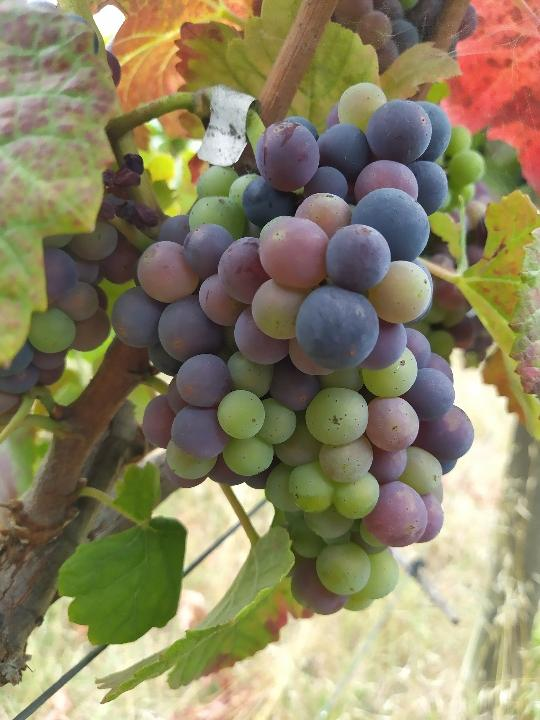grape: (106, 80, 478, 617)
